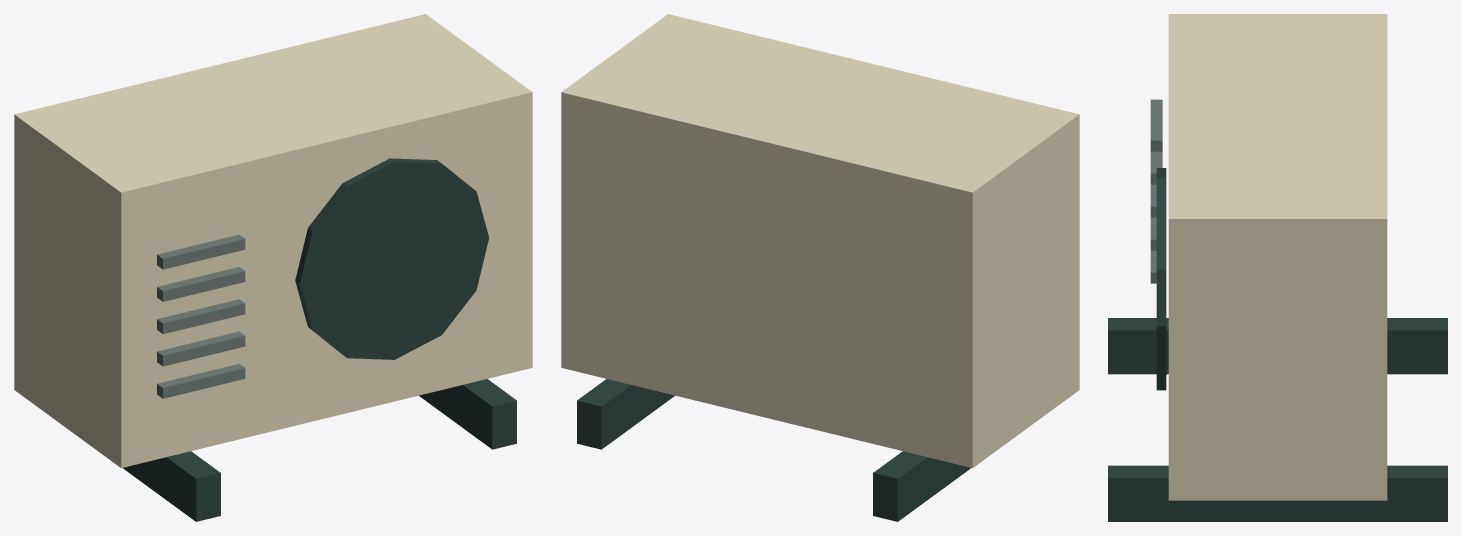
Rendered from AirConditioner.obj.
3 views of the same model, side by side, from view 1: azimuth 30°, elevation 25°; view 2: azimuth 150°, elevation 25°; view 3: azimuth 270°, elevation 25° (orthographic). The views are drawn at different scales.
Visible parts, largest first — view 1: AirConditioner; view 2: AirConditioner; view 3: AirConditioner.
Boxes of the visible parts, bbox=[...] form: AirConditioner: bbox=[14, 14, 532, 521]; AirConditioner: bbox=[561, 14, 1079, 521]; AirConditioner: bbox=[1108, 14, 1447, 521].
Size of the model in its own units: 1 by 0.74 by 0.7.
1 material, 1 textured.
